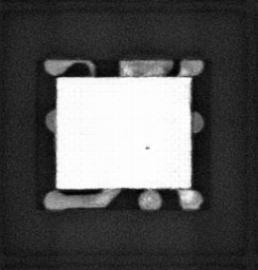DIE_INK: (143, 143, 151, 151)
